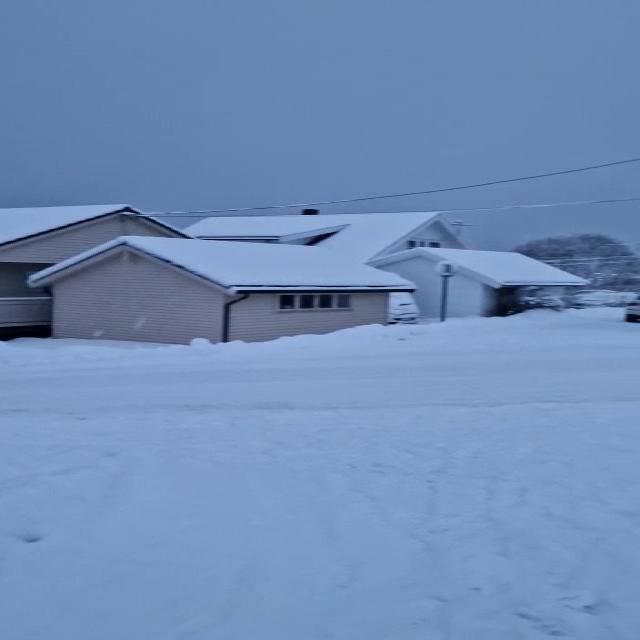path: (0, 335, 640, 412)
